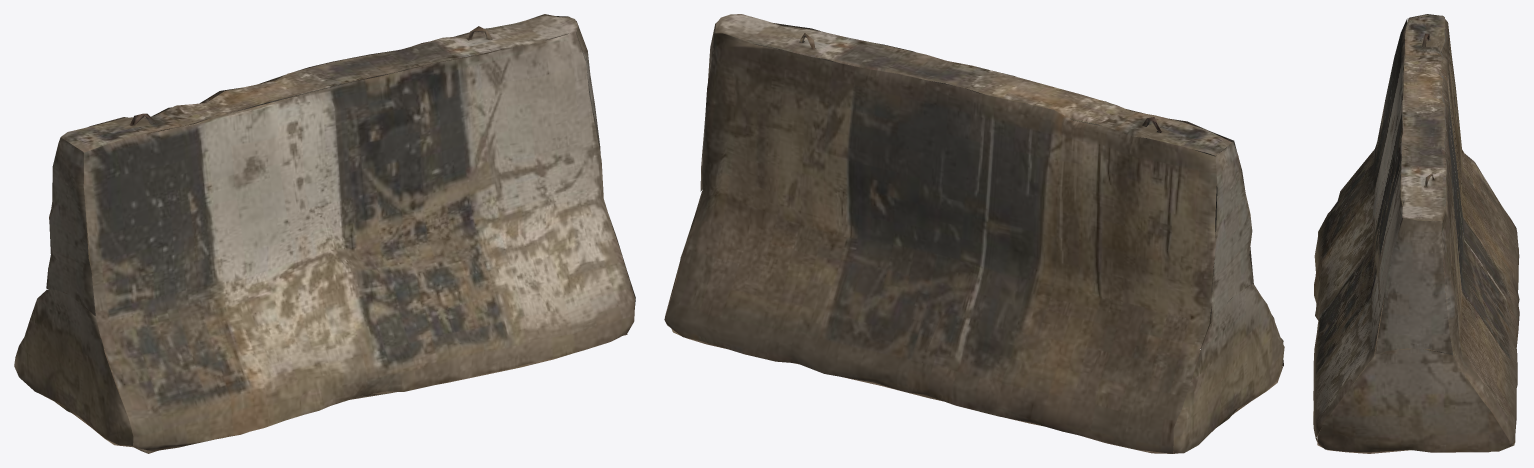
File: road_barrier.glb
3 renders of one model, left to right at view 1: azimuth 30°, elevation 25°; view 2: azimuth 150°, elevation 25°; view 3: azimuth 270°, elevation 25°, orthographic. The views are drawn at different scales.
Visible parts, largest first — view 1: road_barrier; view 2: road_barrier; view 3: road_barrier.
Part boxes in pixels (x1,y1,x2,y2): road_barrier: [14, 14, 635, 453]; road_barrier: [664, 14, 1284, 453]; road_barrier: [1313, 14, 1519, 453].
Bounding box in the file's own units: 1.52 × 0.82 × 0.6251.
1 material, 1 textured.
